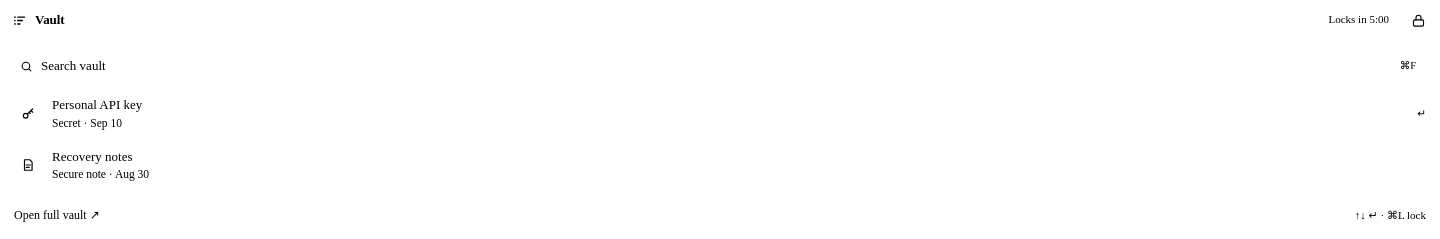
Test case: the Vault quick-access panel, unlocked › opens an item with the value hidden until it is revealed
Click the text "Personal API key". click: x=97, y=104
box: [52,97,142,112]
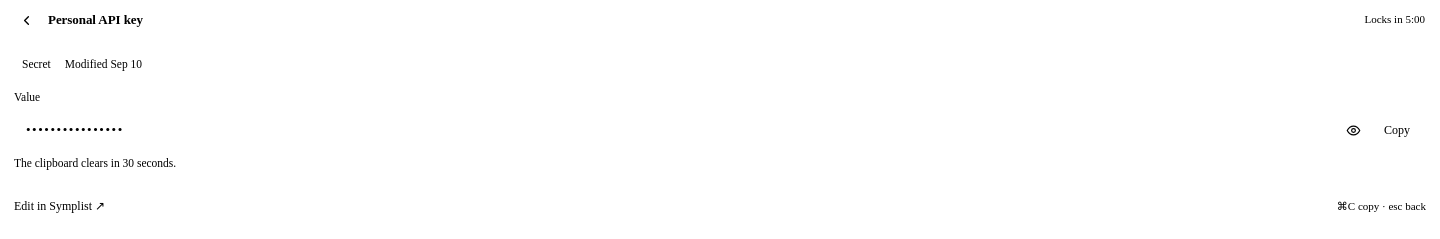
Now the text named "Hidden value" reads "••••••••••••••••", box [26,122,124,137]
Now the text "The clipboard clears in 30 seconds." is shown, box [14,157,176,169]
Now the text "Modified Sep 10" is shown, box [65,58,142,70]
Click the button named "Reveal". click: x=1354, y=130
box: [1340,116,1368,144]
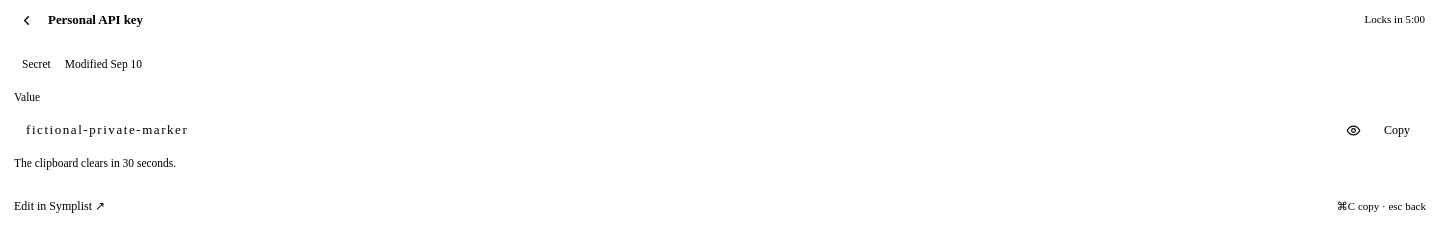
Now the text named "Revealed value" reads "fictional-private-marker", box [26,122,188,137]
